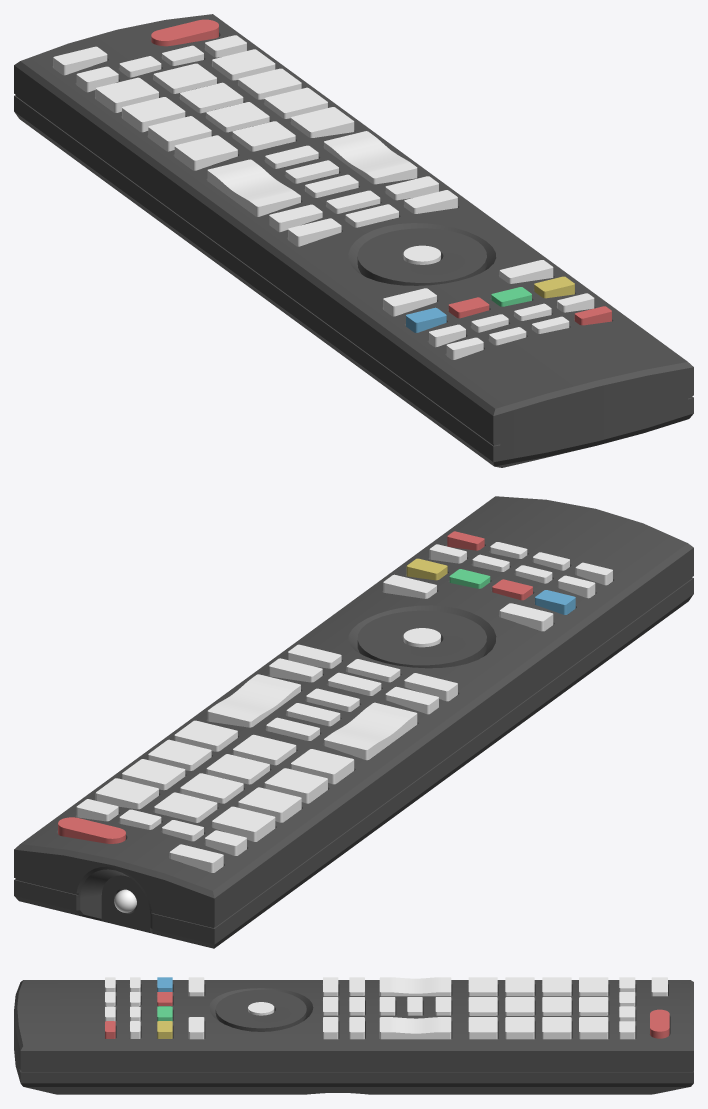
Rendered from 106_TVのリモコン.glb.
The picture shows the model from 3 angles, top to bottom: view 1: azimuth 30°, elevation 25°; view 2: azimuth 150°, elevation 25°; view 3: azimuth 270°, elevation 25°; orthographic projection. The views are drawn at different scales.
Visible parts, largest first — view 1: Body; view 2: Body; view 3: Body.
Part boxes in pixels (bbox=[...]): Body: bbox=[14, 14, 693, 467]; Body: bbox=[14, 496, 693, 948]; Body: bbox=[14, 977, 693, 1094].
Bounding box in the file's own units: 0.05 × 0.0245 × 0.209.
